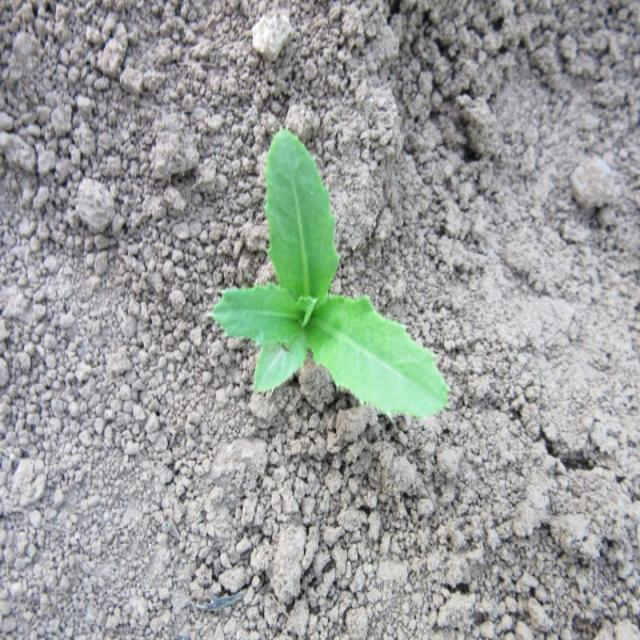cs: (207, 123, 453, 422)
